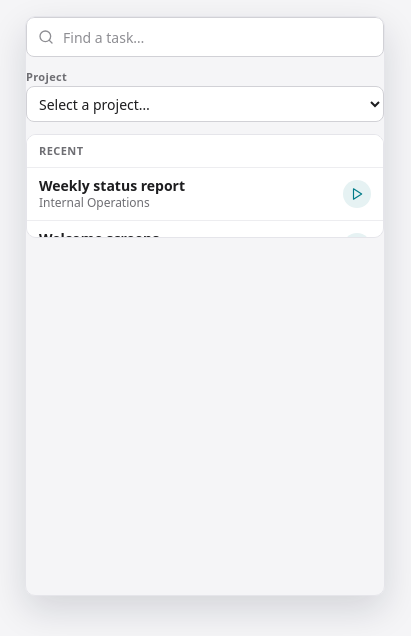
TaskPicker cascade › drops deeper levels when a higher level changes
Later steps or results of the test are not shown.
Select "Website Redesign (Acme Pvt Ltd)" in the dropdown labelled "Project" at (205, 104), box x1=26 y1=86 x2=384 y2=122
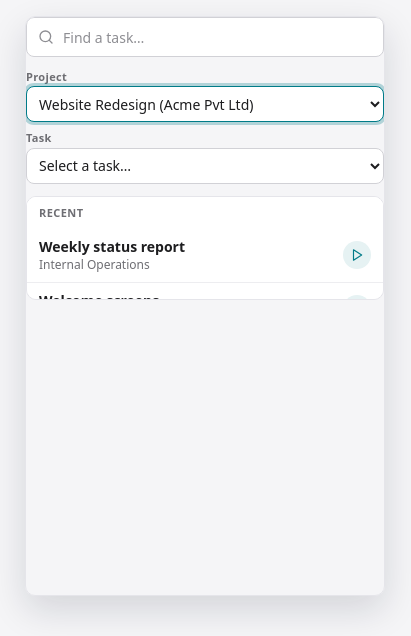
Select "Homepage ›" in the dropdown labelled "Task" at (205, 166), box x1=26 y1=148 x2=384 y2=184
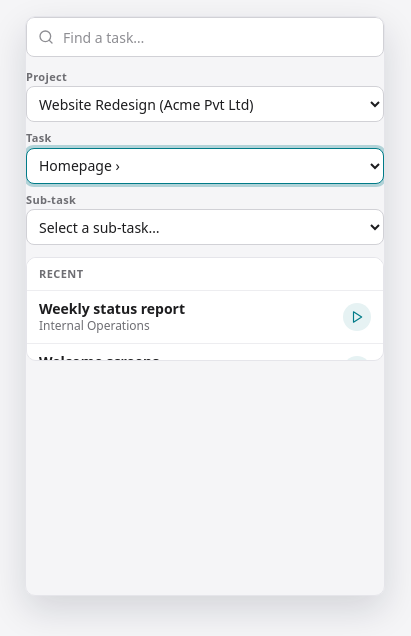
Result: the dropdown labelled "Sub-task" is shown at x1=26 y1=209 x2=384 y2=245
Select "Accessibility audit" in the dropdown labelled "Task" at (205, 166), box x1=26 y1=148 x2=384 y2=184
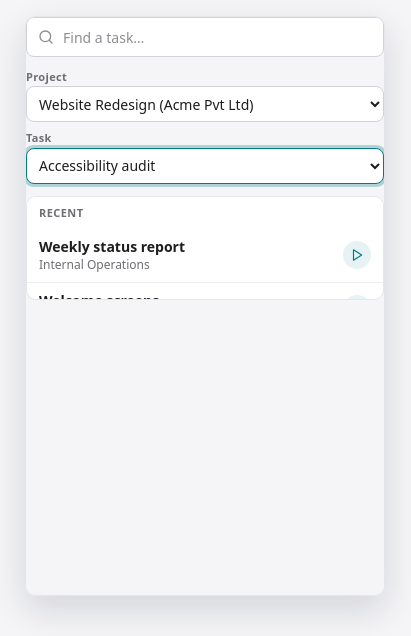
Result: the label "Sub-task" is gone
